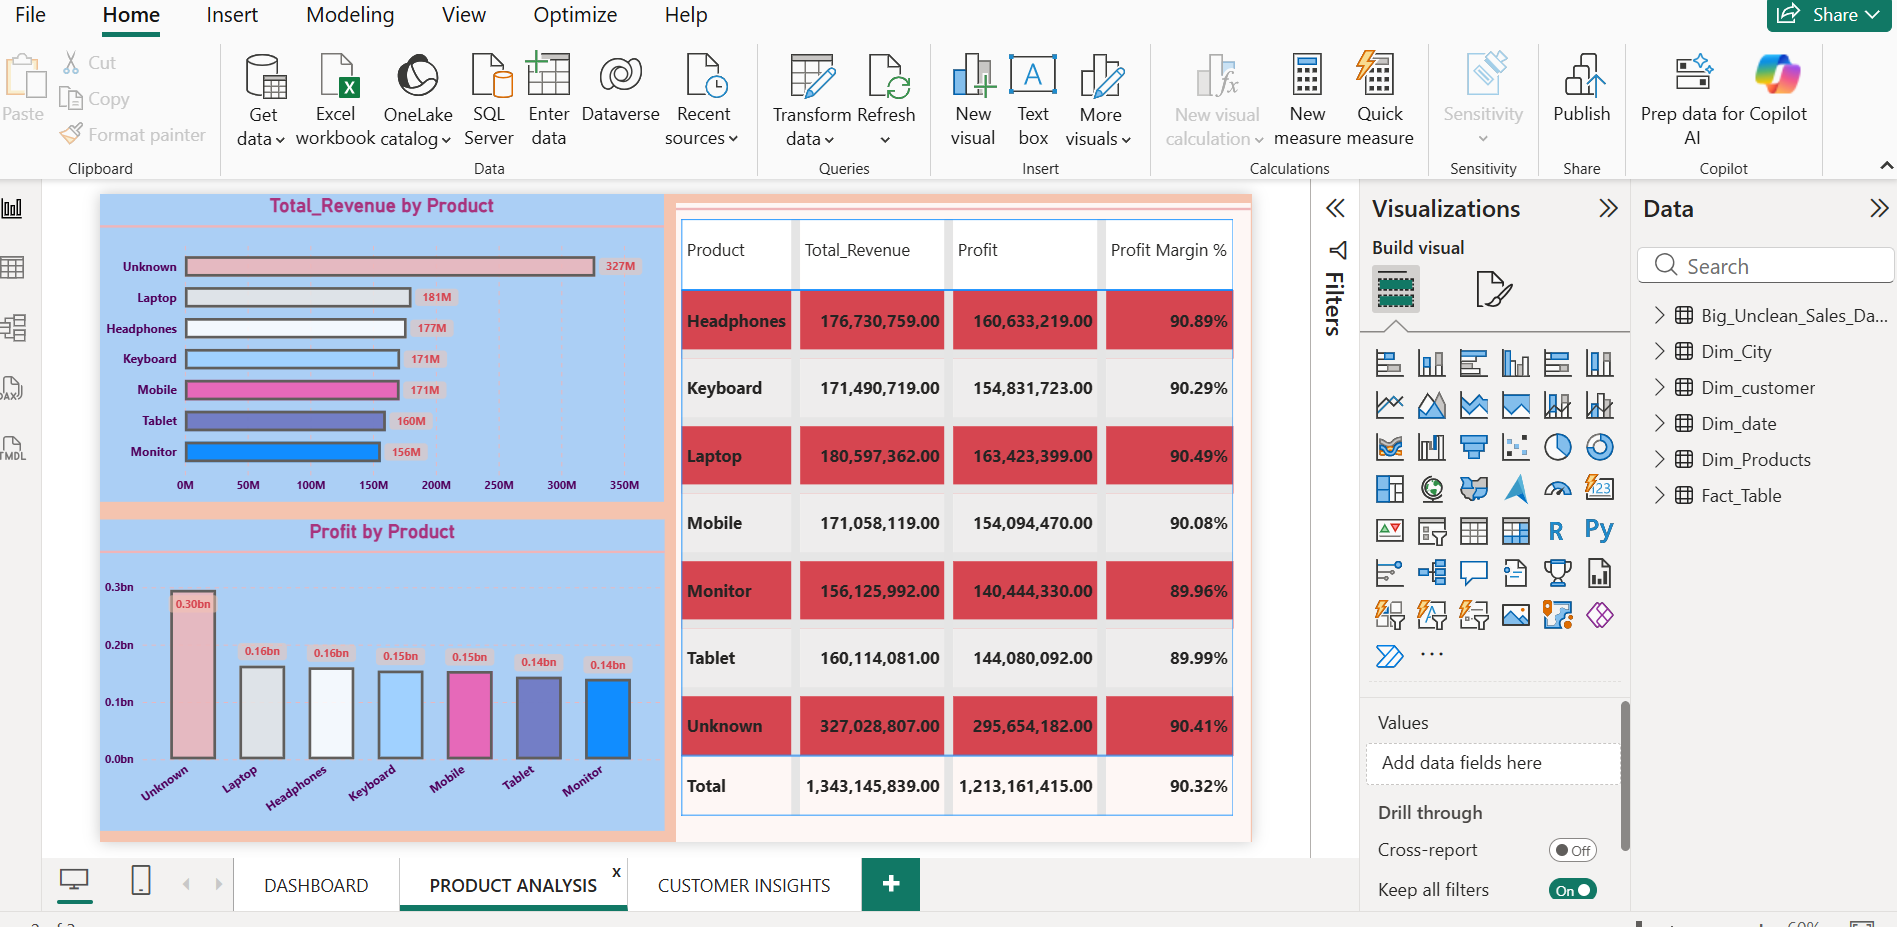

Layout of this report page (visuals, bound fields, positions):
{"tool":"powerbi","page":{"name":"PRODUCT ANALYSIS","canvas":[1280,720],"ordinal":1},"visuals":[{"type":"barChart","fields":{"Category":["Dim_Products.Product"],"Y":["Fact_Table.Total_Revenue"]},"box":[0,0,626.7,342],"z":0},{"type":"columnChart","fields":{"Category":["Dim_Products.Product"],"Y":["Fact_Table.Profit"]},"box":[0,360.9,627.4,345.8],"z":1000},{"type":"tableEx","fields":{"Values":["Dim_Products.Product","Fact_Table.Total_Revenue","Fact_Table.Profit","Fact_Table.Profit Margin %"]},"box":[640.6,9.4,638.8,710.6],"z":2000}]}

Visuals, with their boxes on the page's 1280x720 design canvas (x1, y1, x2, y2). These are canvas units, not pixel positions in the 1897x927 screenshot, which may show the page scaled, cropped or inside an application window:
barChart - Dim_Products.Product x Fact_Table.Total_Revenue: box=[0, 0, 627, 342]
columnChart - Dim_Products.Product x Fact_Table.Profit: box=[0, 361, 627, 707]
tableEx - Dim_Products.Product x Fact_Table.Total_Revenue: box=[641, 9, 1279, 720]
